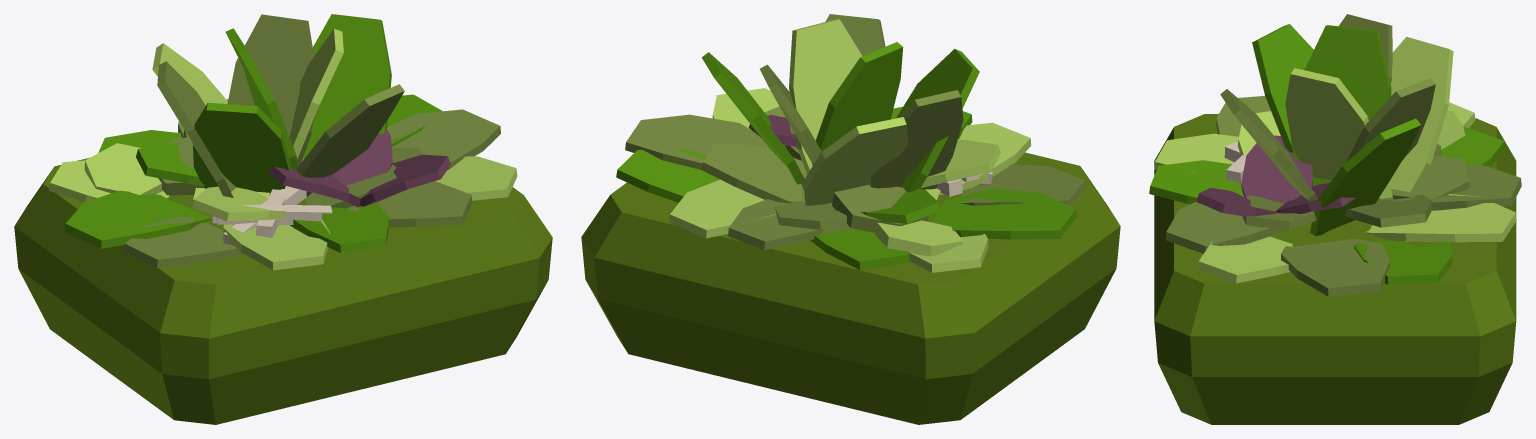
File: SM_Cook_HerbPile_Small_01.glb
The picture shows the model from 3 angles, left to right: view 1: azimuth 30°, elevation 25°; view 2: azimuth 150°, elevation 25°; view 3: azimuth 270°, elevation 25°; orthographic projection.
Parts seen in each view (by area): view 1: SM_Cook_HerbPile_Small_01; view 2: SM_Cook_HerbPile_Small_01; view 3: SM_Cook_HerbPile_Small_01.
Part boxes in pixels (x1,y1,x2,y2): SM_Cook_HerbPile_Small_01: (14, 14, 552, 424); SM_Cook_HerbPile_Small_01: (581, 14, 1120, 424); SM_Cook_HerbPile_Small_01: (1149, 14, 1521, 424).
Size of the model in its own units: 0.2746 by 0.1821 by 0.208.
Materials: 1 (1 with a texture image).
